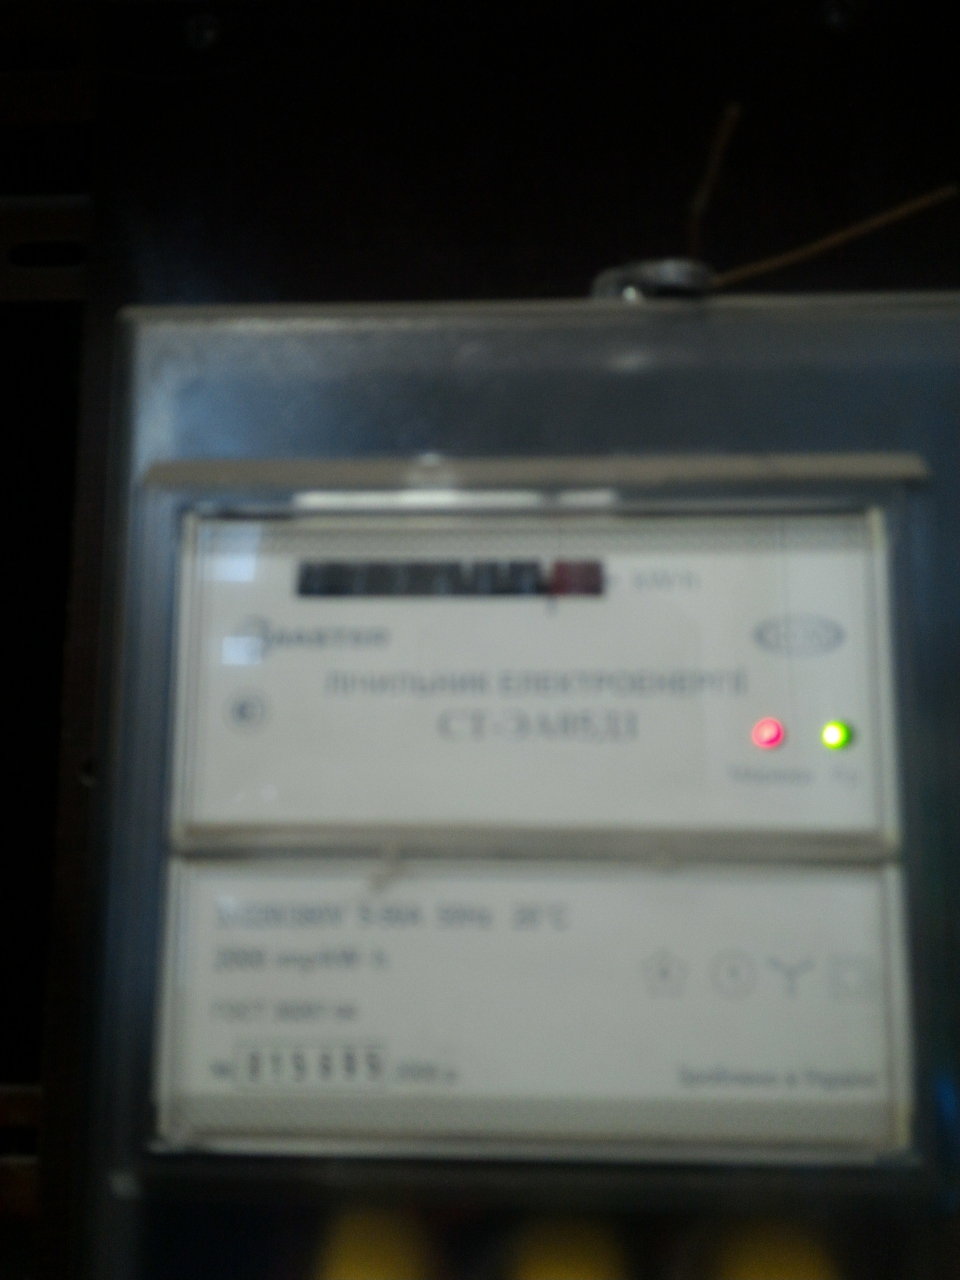screen: (289, 553, 615, 604)
